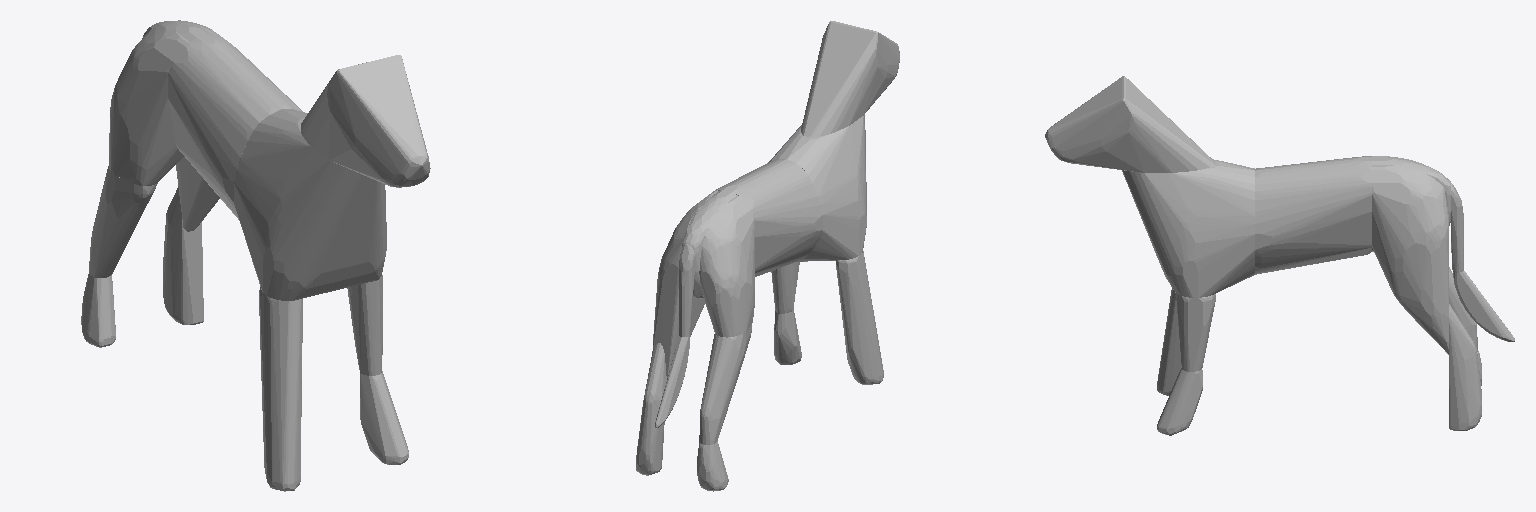
The robot description file, URDF, robot "root":
<?xml version="1.0"?>
<robot name="root">
  <link name="base_link">
    <visual>
      <origin xyz="0 0 0" rpy="0 0 0" />
      <geometry>
        <mesh filename="../meshes/unidex_sem_Dog-f2bcfa3ef5f2494ca76cd3c14a882cc8_010.obj" scale="1.0000E+00 1.0000E+00 1.0000E+00" />
      </geometry>
      <material name="">
        <color rgba="7.50E-01 7.50E-01 7.50E-01 1" />
      </material>
    </visual>
    <collision>
      <origin xyz="0 0 0" rpy="0 0 0" />
      <geometry>
        <mesh filename="../meshes/unidex_sem_Dog-f2bcfa3ef5f2494ca76cd3c14a882cc8_010.obj" scale="1.0000E+00 1.0000E+00 1.0000E+00" />
      </geometry>
    </collision>
  </link>
</robot>

--- What the picture shows (computed from the rendered views, not written in the file) ---
3 views of the same robot in one strip: view 1: azimuth 30°, elevation 25°; view 2: azimuth 150°, elevation 25°; view 3: azimuth 270°, elevation 25° (orthographic).
Model root with 1 links and 0 joints (none), rooted at base_link, posed all joints at 0.
Visible links, largest first — view 1: base_link; view 2: base_link; view 3: base_link.
Link boxes in pixels (left/top/right/bottom): base_link: left=81, top=20, right=430, bottom=491; base_link: left=636, top=21, right=899, bottom=491; base_link: left=1045, top=76, right=1514, bottom=435.
Size in the robot's own frame: 0.043 by 0.172 by 0.1309 metres.
1 mesh visuals loaded from 1 distinct referenced files (1 OBJ).
